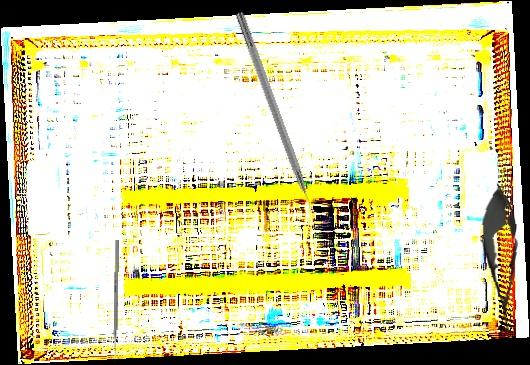Hook Surgical: (232, 10, 323, 230)
Micro Scissor: (477, 181, 527, 339)
Pusher: (112, 239, 120, 363)
